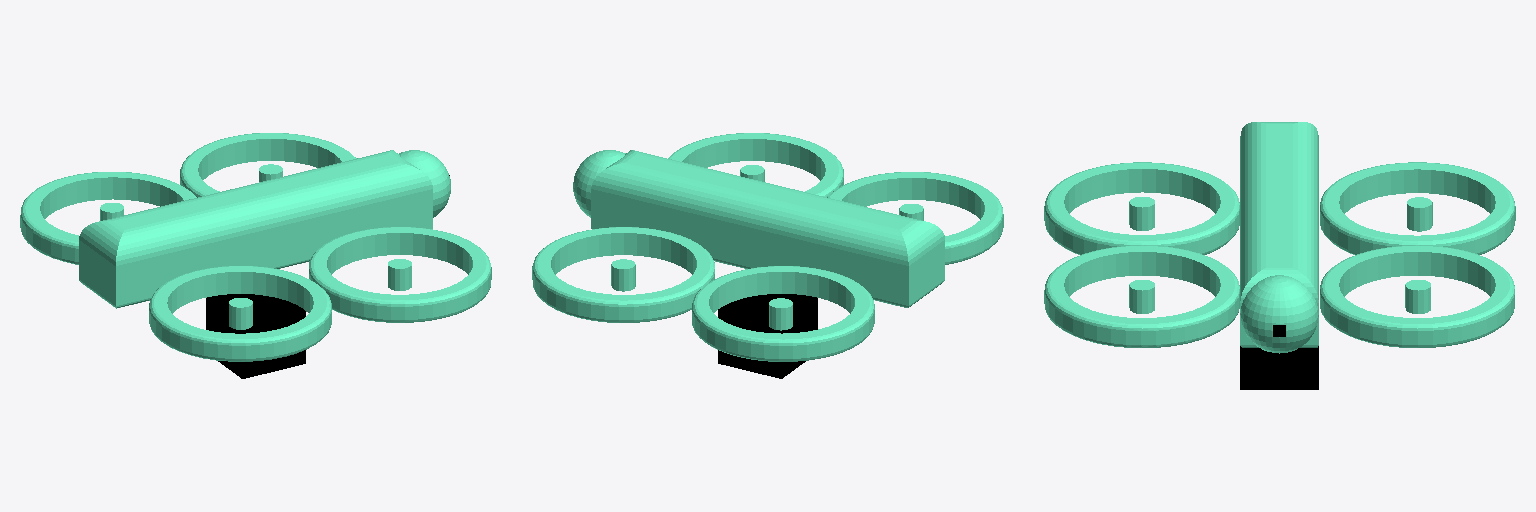
The robot description file, URDF, robot "simdrone":
<?xml version="1.0" ?>
<!-- =================================================================================== -->
<!-- |    This document was autogenerated by xacro from simdrone.xacro                 | -->
<!-- |    EDITING THIS FILE BY HAND IS NOT RECOMMENDED                                 | -->
<!-- =================================================================================== -->
<robot name="simdrone">
  <!-- Base Link with Mesh -->
  <link name="Root">
    <visual>
      <origin rpy="1.5708 0 0" xyz="0.075 -0.015 0.1"/>
      <geometry>
        <mesh filename="meshes/simdrone.stl" scale="0.001 0.001 0.001"/>
      </geometry>
      <material name="light_blue">
        <color rgba="0.498 1 0.831 1.0"/>
      </material>
    </visual>
    <inertial>
      <origin xyz="0 0 0"/>
      <mass value="0.6"/>
      <inertia ixx="0.002405" ixy="0.0" ixz="0.0" iyy="0.002405" iyz="0.0" izz="0.004"/>
    </inertial>
  </link>

  <joint name="Pan_joint" type="revolute">
    <parent link="Root"/>
    <child link="link_Pan"/>
    <axis xyz="0 0 1"/>
    <limit effort="30" lower="-1.047197" upper="1.047197" velocity="1.5"/>
    <origin xyz="0.075 0 0.115"/>
  </joint>
  <link name="link_Pan">
    <visual>
      <geometry>
        <sphere radius="0.015"/>
      </geometry>
      <material name="light_blue"/>
    </visual>
    <collision>
      <geometry>
        <sphere radius="0.015"/>
      </geometry>
      <material name="light_blue"/>
    </collision>
  </link>

  <joint name="Tilt_joint" type="revolute">
    <parent link="link_Pan"/>
    <child link="link_Tilt"/>
    <axis xyz="0 1 0"/>
    <limit effort="30" lower="-1.047197" upper="1.047197" velocity="1.5"/>
  </joint>
  <link name="link_Tilt">
    <visual>
      <geometry>
        <sphere radius="0.015"/>
      </geometry>
      <material name="light_blue"/>
    </visual>
    <collision>
      <geometry>
        <sphere radius="0.015"/>
      </geometry>
      <material name="light_blue"/>
    </collision>
  </link>




  <joint name="FrontCamera_joint" type="fixed">
    <parent link="link_Tilt"/>
    <child link="FrontCamera_link"/>
    <!--origin rpy="1.5708 -1.5708  0" xyz="0.015 0 0"/-->
    <origin xyz="0.015 0 0" rpy="0 1.5708  0"/>
  </joint>
  <link name="FrontCamera_link">
    <visual>
      <origin rpy="0 0 0" xyz="0 0 0"/>
      <geometry>
        <box size="0.005 0.005 0.0001"/>
      </geometry>
      <material name="black">
        <color rgba="0 0 0 1"/>
      </material>
    </visual>
  </link>
  <link name="FrontCamera"/>
  <joint name="FrontCamera_joint2" type="fixed">
    <parent link="FrontCamera_link"/>
    <child link="FrontCamera"/>
  </joint>

  <!-- RangeSensor (LIDAR) -->
  <joint name="range_sensor_joint1" type="fixed">
    <parent link="Root"/>
    <child link="range_sensor_link1"/>
    <origin xyz="0 0 0.085"/>
  </joint>
  <link name="range_sensor_link1">
    <visual>
      <origin rpy="0 0 0" xyz="0 0 0"/>
      <geometry>
        <box size="0.01 0.01 0.03"/>
      </geometry>
      <material name="black">
        <color rgba="0 0 0 1"/>
      </material>
    </visual>
  </link>
  <joint name="range_sensor_joint2" type="fixed">
    <parent link="range_sensor_link1"/>
    <child link="range_sensor_link2"/>
    <origin xyz="0 0 -0.015" rpy="0 1.5708  0"/>
  </joint>
  <link name="range_sensor_link2">
    <visual>
      <origin rpy="0 0 0" xyz="0 0 0"/>
      <geometry>
        <box size="0.03 0.03 0.03"/>
      </geometry>
      <material name="black">
        <color rgba="0 0 0 1"/>
      </material>
    </visual>
  </link>
  <link name="RangeSensor"/>
  <joint name="RangeSensor_joint" type="fixed">
    <parent link="range_sensor_link2"/>
    <child link="RangeSensor"/>
  </joint>
  <!-- IMU -->
  <link name="imu_link"/>
  <joint name="imu_joint" type="fixed">
    <parent link="Root"/>
    <child link="imu_link"/>
  </joint>
  <link name="GyroSensor"/>
  <joint name="GyroSensor_joint" type="fixed">
    <parent link="imu_link"/>
    <child link="GyroSensor"/>
  </joint>
  <link name="AccSensor"/>
  <joint name="AccSensor_joint" type="fixed">
    <parent link="imu_link"/>
    <child link="AccSensor"/>
  </joint>
  <link name="FrontLight_link"/>
  <joint name="FrontLight_joint" type="fixed">
    <parent link="Root"/>
    <child link="FrontLight_link"/>
    <origin rpy="0 0 0" xyz="0.065 0 0.13"/>
  </joint>
  <link name="BackLight_link"/>
  <joint name="BackLight_joint" type="fixed">
    <parent link="Root"/>
    <child link="BackLight_link"/>
    <origin rpy="0 0 0" xyz="-0.075 0 0.115"/>
  </joint>
  <link name="LeftLight_link"/>
  <joint name="LeftLight_joint" type="fixed">
    <parent link="Root"/>
    <child link="LeftLight_link"/>
    <origin rpy="0 0 0" xyz="0 0.015 0.115"/>
  </joint>
  <link name="RightLight_link"/>
  <joint name="RightLight_joint" type="fixed">
    <parent link="Root"/>
    <child link="RightLight_link"/>
    <origin rpy="0 0 0" xyz="0 -0.015 0.115"/>
  </joint>
  <link name="ROTOR_RF"/>
  <joint name="ROTOR_RF_joint" type="fixed">
    <parent link="Root"/>
    <child link="ROTOR_RF"/>
    <origin rpy="0 0 0" xyz="0.037 -0.053 0.105"/>
  </joint>
  <link name="ROTOR_LF"/>
  <joint name="ROTOR_LF_joint" type="fixed">
    <parent link="Root"/>
    <child link="ROTOR_LF"/>
    <origin rpy="0 0 0" xyz="0.037 0.053 0.105"/>
  </joint>
  <link name="ROTOR_LR"/>
  <joint name="ROTOR_LR_joint" type="fixed">
    <parent link="Root"/>
    <child link="ROTOR_LR"/>
    <origin rpy="0 0 0" xyz="-0.037 0.053 0.105"/>
  </joint>
  <link name="ROTOR_RR"/>
  <joint name="ROTOR_RR_joint" type="fixed">
    <parent link="Root"/>
    <child link="ROTOR_RR"/>
    <origin rpy="0 0 0" xyz="-0.037 -0.053 0.105"/>
  </joint>
</robot>

--- Render facts (derived) ---
Views: 3 orthographic renders of the robot side by side, from view 1: azimuth 30°, elevation 25°; view 2: azimuth 150°, elevation 25°; view 3: azimuth 270°, elevation 25°.
Model simdrone with 19 links and 18 joints (2 revolute, 16 fixed), rooted at Root, posed all joints at 0.
Links seen in each view (by area): view 1: Root, range_sensor_link2, link_Pan; view 2: Root, range_sensor_link2, link_Pan; view 3: Root, link_Pan, range_sensor_link2.
Boxes of the visible links, bbox=[...] form: Root: bbox=[20, 133, 491, 361]; range_sensor_link2: bbox=[206, 294, 305, 378]; link_Pan: bbox=[399, 150, 450, 217]; Root: bbox=[532, 133, 1003, 361]; range_sensor_link2: bbox=[718, 294, 817, 378]; link_Pan: bbox=[573, 150, 625, 217]; Root: bbox=[1044, 122, 1515, 347]; link_Pan: bbox=[1240, 275, 1318, 353]; range_sensor_link2: bbox=[1240, 346, 1318, 389].
Size in the robot's own frame: 0.1651 by 0.1803 by 0.075 metres.
1 mesh visuals loaded from 1 distinct referenced files (1 binary STL).
